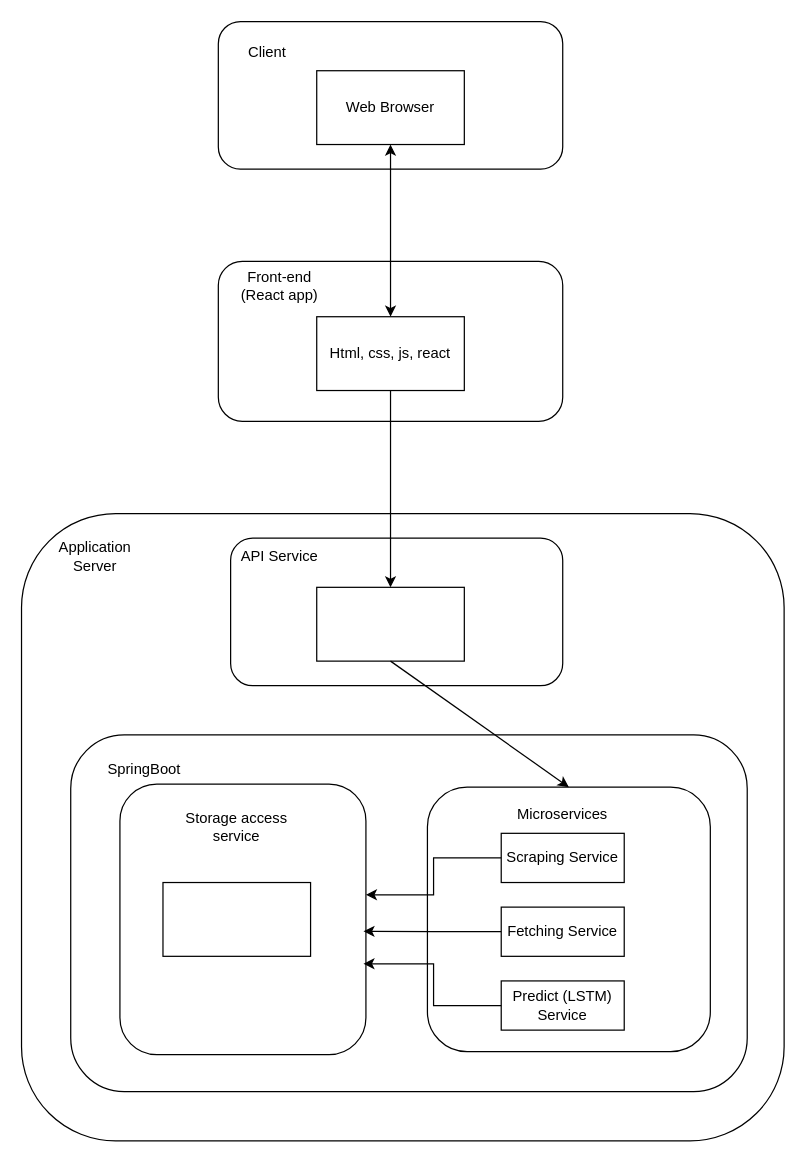
Image size: 806x1162. Some labels were removed from this diagram. Each missing label, with the centre of its shape:
"Database" goes at point 236,918.
"Routing" goes at point 389,623.
